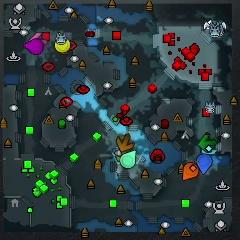p1: (196, 153, 212, 174)
p2: (121, 149, 138, 167)
p3: (24, 38, 44, 54)
p4: (56, 32, 70, 52)
p5: (181, 161, 199, 181)
x1: (30, 33, 48, 43)
x2: (116, 155, 123, 164)
x3: (200, 147, 217, 157)
x4: (199, 133, 218, 150)
x5: (117, 133, 133, 152)
